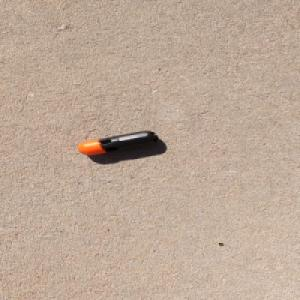PlasticPart: (76, 130, 159, 156)
